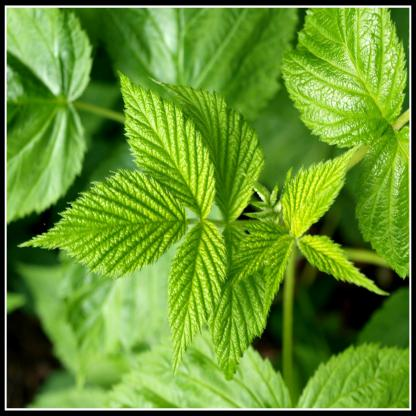raspberry leaf: (15, 167, 189, 277), (117, 69, 218, 224), (166, 220, 224, 365), (284, 140, 362, 237)
